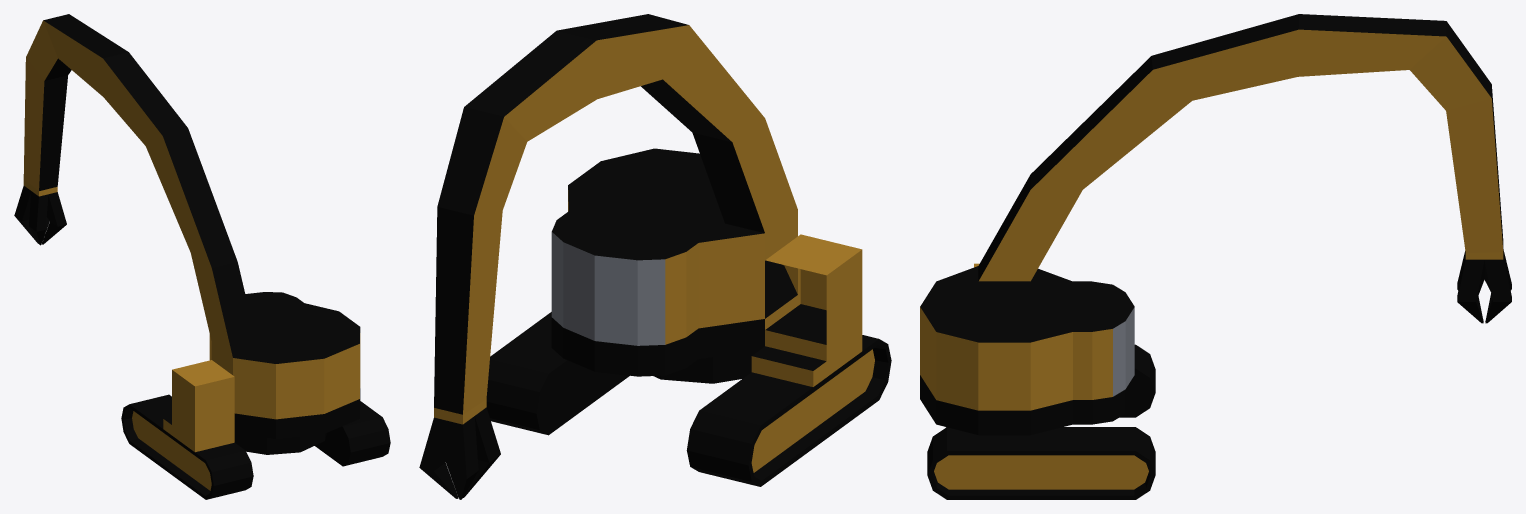
File: catr 325c digger.glb
3 renders of one model, left to right at view 1: azimuth 30°, elevation 25°; view 2: azimuth 150°, elevation 25°; view 3: azimuth 270°, elevation 25°, orthographic. The views are drawn at different scales.
Visible parts, largest first — view 1: Digger; view 2: Digger; view 3: Digger.
Boxes of the visible parts, left/top/right/bottom form: Digger: left=14, top=14, right=390, bottom=499; Digger: left=419, top=14, right=891, bottom=499; Digger: left=920, top=14, right=1511, bottom=499.
Size of the model in its own units: 8.88 by 15.7 by 20.87.
